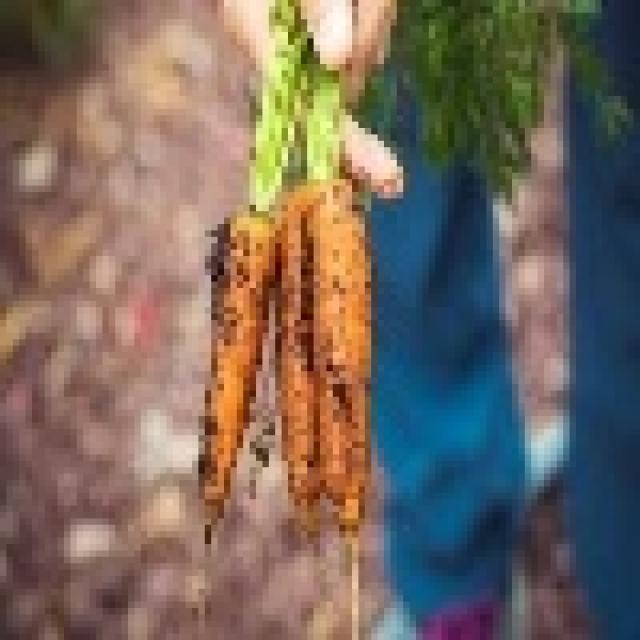Stale_Carrot: (188, 172, 392, 510)
